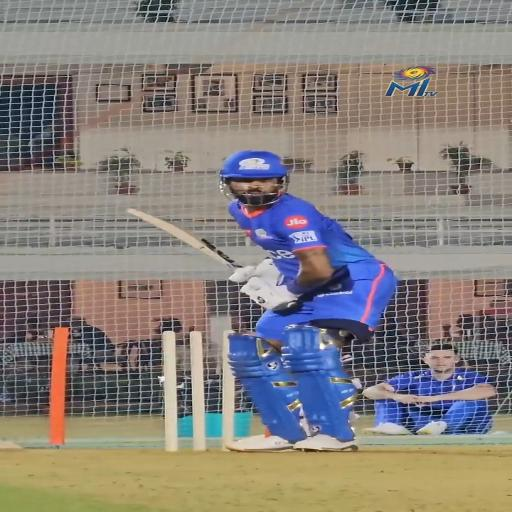Cricket bat: (127, 208, 241, 267)
